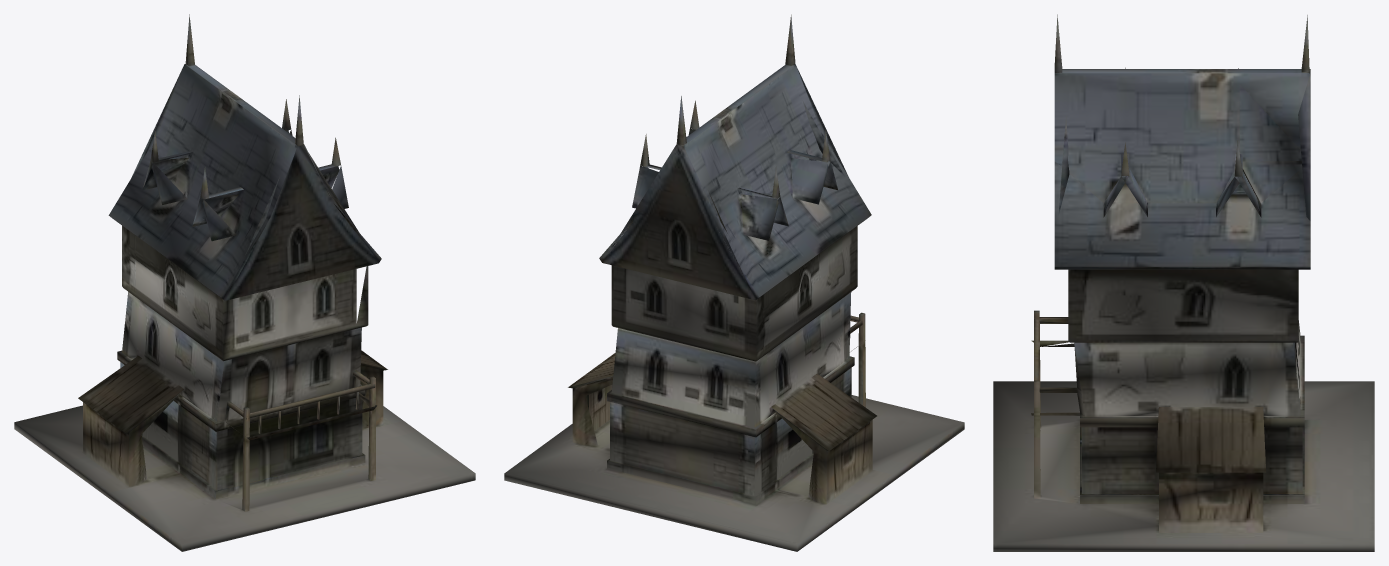
Rendered from house-6.glb.
3 renders of one model, left to right at view 1: azimuth 30°, elevation 25°; view 2: azimuth 150°, elevation 25°; view 3: azimuth 270°, elevation 25°, orthographic. The views are drawn at different scales.
Parts seen in each view (by area): view 1: tripo_node_c031148a-b3ad-4059-8c56-f4dfb; view 2: tripo_node_c031148a-b3ad-4059-8c56-f4dfb; view 3: tripo_node_c031148a-b3ad-4059-8c56-f4dfb.
Boxes of the visible parts, <box> form: tripo_node_c031148a-b3ad-4059-8c56-f4dfb: <box>14,14,475,551</box>; tripo_node_c031148a-b3ad-4059-8c56-f4dfb: <box>504,14,964,551</box>; tripo_node_c031148a-b3ad-4059-8c56-f4dfb: <box>993,14,1374,551</box>.
Bounding box in the file's own units: 12.24 × 16 × 12.12.
1 material, 1 textured.
